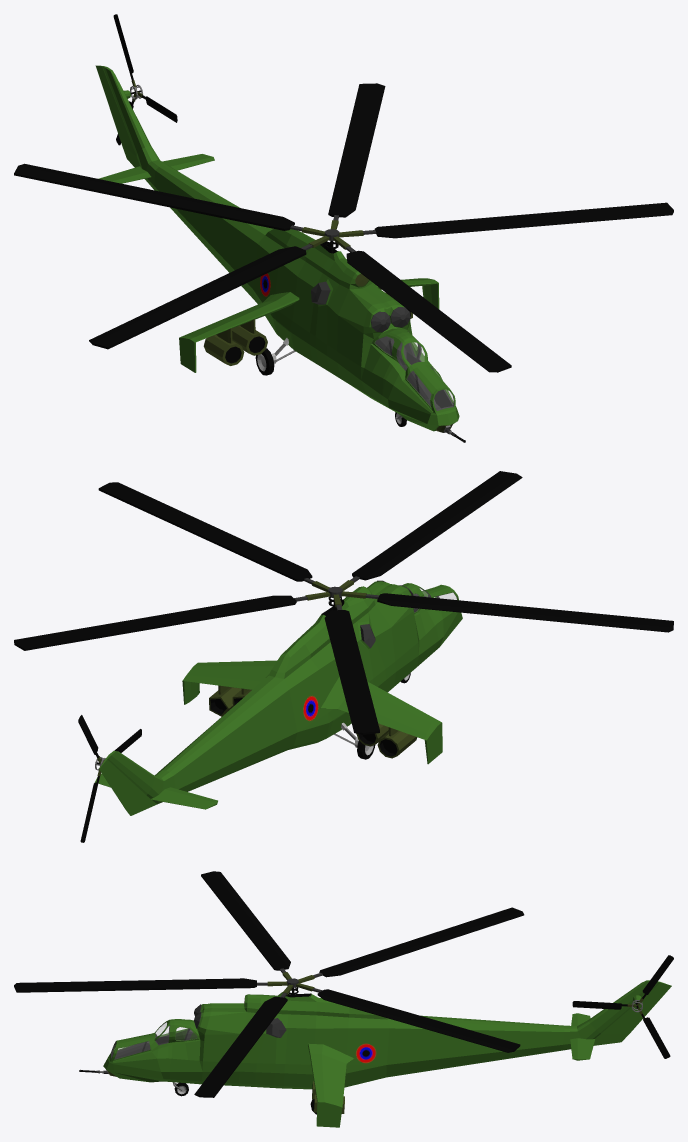
The picture shows the model from 3 angles, top to bottom: view 1: azimuth 30°, elevation 25°; view 2: azimuth 150°, elevation 25°; view 3: azimuth 270°, elevation 25°; orthographic projection. The views are drawn at different scales.
Visible parts, largest first — view 1: Plane.026, Circle.002, Plane.029, Plane.034, Plane.031; view 2: Plane.026, Circle.002, Plane.034; view 3: Plane.026, Circle.002, Plane.034, Plane.038, Plane.037.
Boxes of the visible parts, x1=… form: Plane.026: x1=95, y1=65, x2=459, y2=431; Circle.002: x1=14, y1=83, x2=673, y2=372; Plane.029: x1=364, y1=334, x2=398, y2=378; Plane.034: x1=113, y1=14, x2=177, y2=145; Plane.031: x1=397, y1=343, x2=453, y2=410; Plane.026: x1=95, y1=580, x2=462, y2=815; Circle.002: x1=14, y1=471, x2=673, y2=734; Plane.034: x1=78, y1=715, x2=141, y2=842; Plane.026: x1=103, y1=980, x2=671, y2=1127; Circle.002: x1=14, y1=871, x2=524, y2=1097; Plane.034: x1=572, y1=955, x2=673, y2=1058; Plane.038: x1=171, y1=1025, x2=200, y2=1060; Plane.037: x1=113, y1=1038, x2=151, y2=1060.
Bounding box in the file's own units: 2301 × 707 × 2853.
